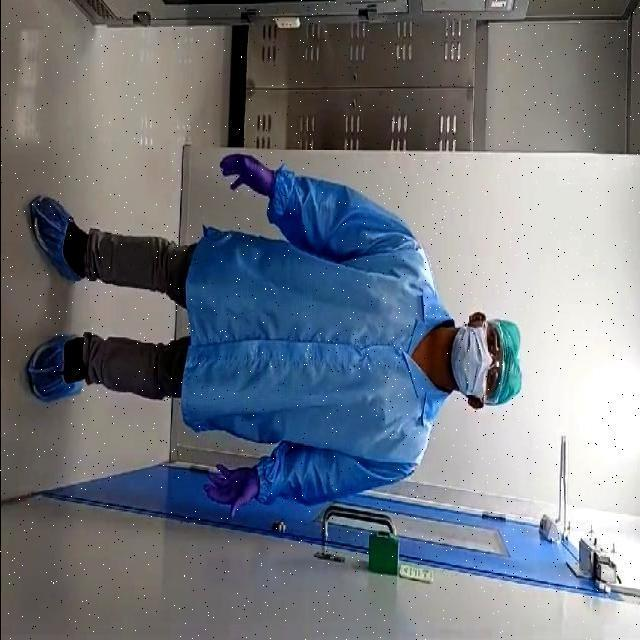apron: (202, 462, 258, 516), (218, 150, 272, 205)
